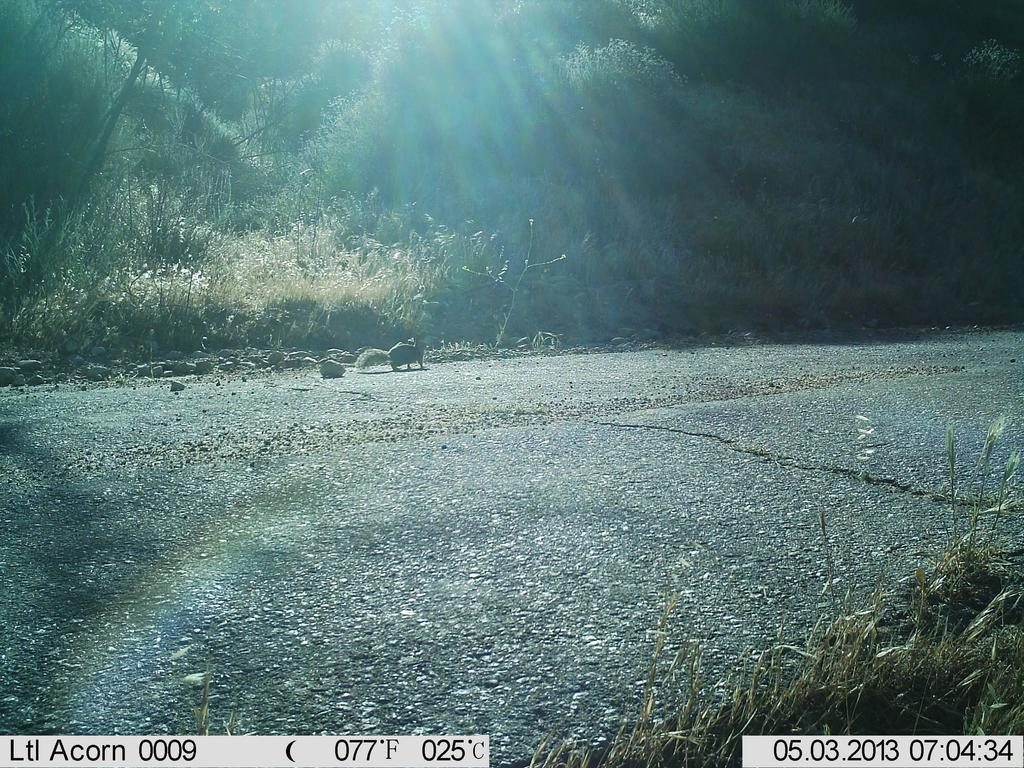squirrel: (353, 333, 433, 375)
